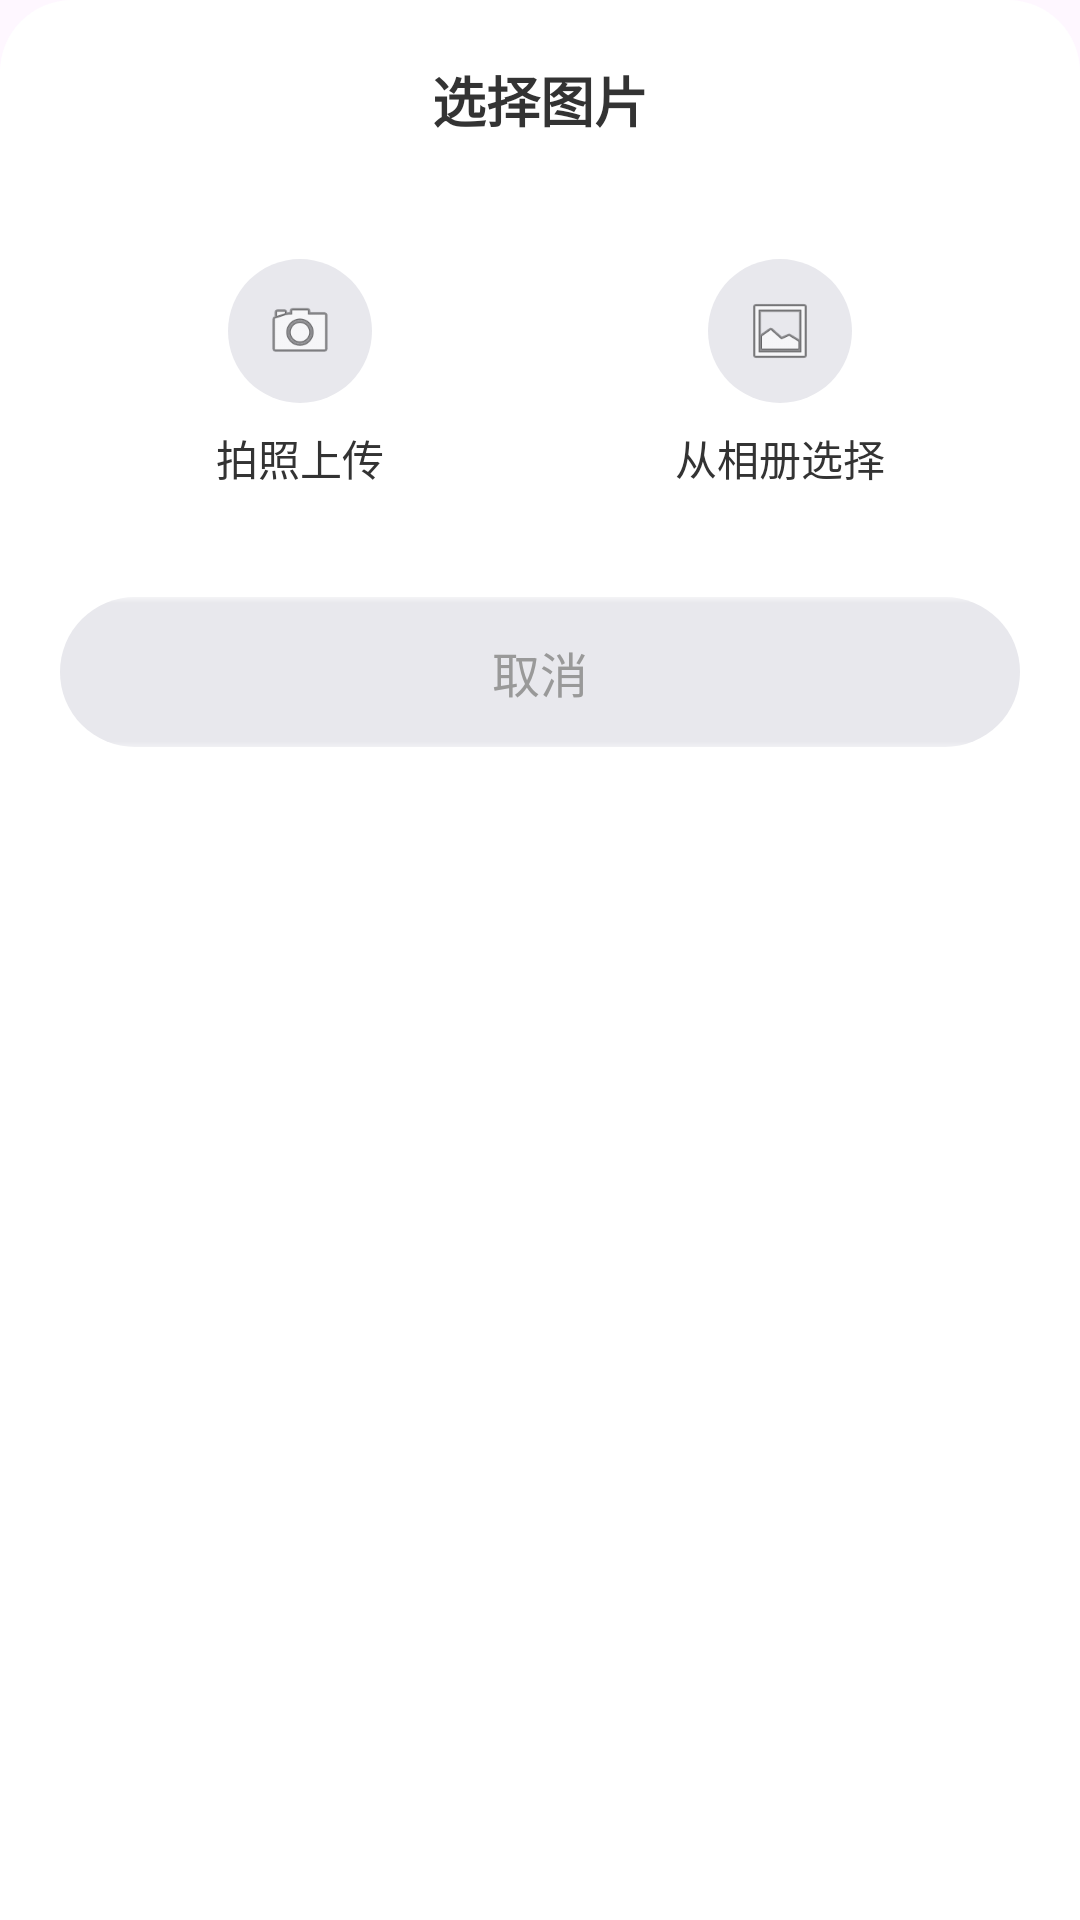

Locate icon controls on the screen. Image size 1080 × 1920, boxes as [x1,y1,x2,y2].
gallery: [753,303,807,359]
